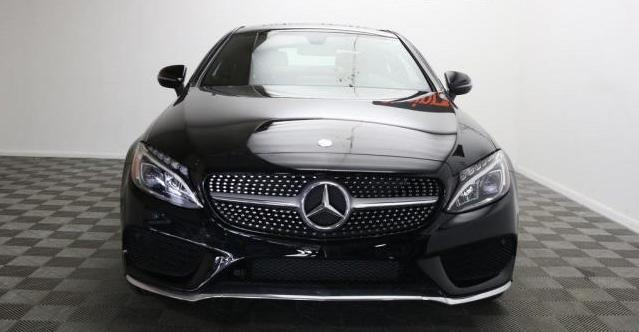C300Coupe: (116, 15, 523, 315)
